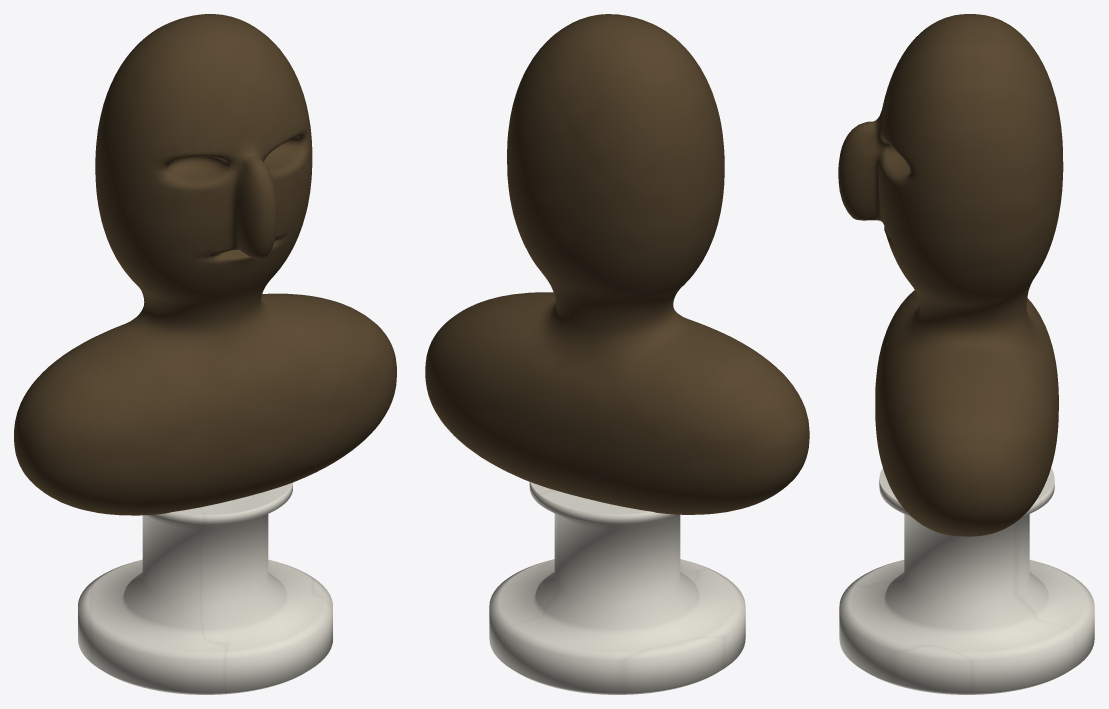
The model's file is modern-abstract-bust.glb.
3 renders of one model, left to right at view 1: azimuth 30°, elevation 25°; view 2: azimuth 150°, elevation 25°; view 3: azimuth 270°, elevation 25°, orthographic.
Parts seen in each view (by area): view 1: Abstract visage and shoulders, Turned marble bust socle; view 2: Abstract visage and shoulders, Turned marble bust socle; view 3: Abstract visage and shoulders, Turned marble bust socle.
Boxes of the visible parts, left/top/right/bottom form: Abstract visage and shoulders: left=14, top=14, right=396, bottom=515; Turned marble bust socle: left=78, top=482, right=332, bottom=694; Abstract visage and shoulders: left=425, top=14, right=809, bottom=514; Turned marble bust socle: left=489, top=482, right=745, bottom=694; Abstract visage and shoulders: left=838, top=14, right=1063, bottom=536; Turned marble bust socle: left=839, top=468, right=1094, bottom=694.
Size of the model in its own units: 0.39 by 0.6329 by 0.237.
2 materials, 2 textured.
